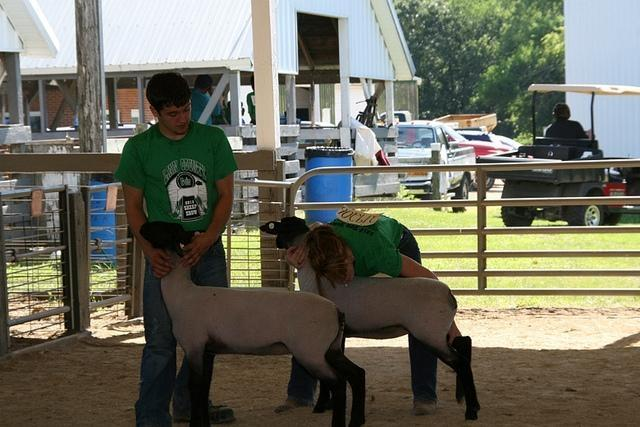car: (442, 121, 515, 160), (454, 131, 502, 145)
truck: (395, 120, 477, 214)
